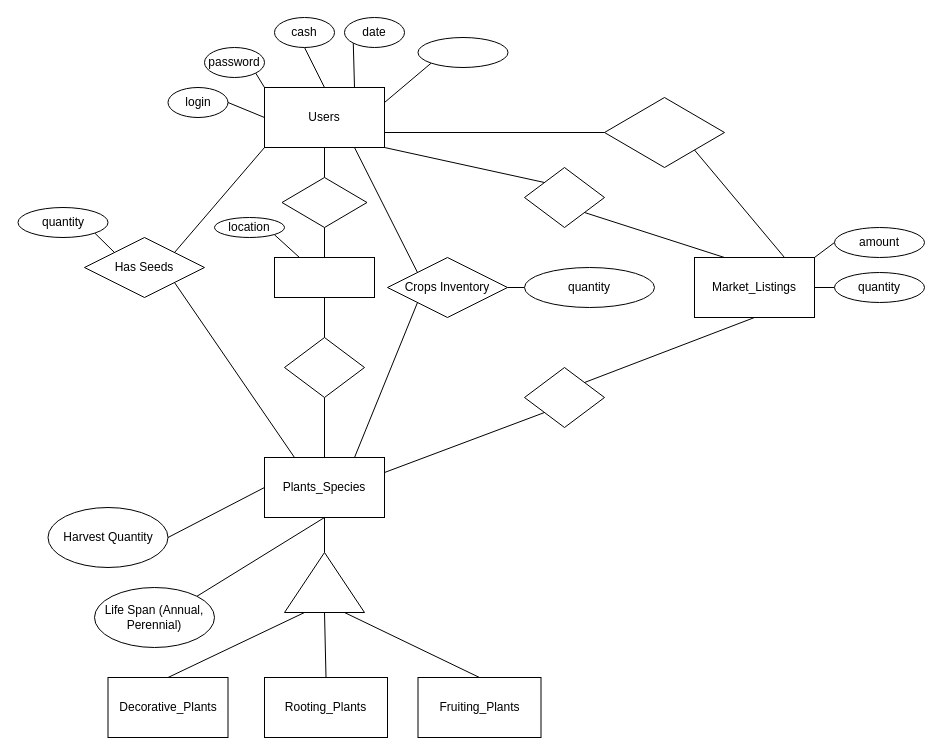
Some shapes in this 942 by 755 pixel diagram are drawn without their labels. The shapes that lost their labels are listed below. From the top down, each one's box as (x1, y1, x2, y2) in pixels, then its label:
(417, 36, 508, 68): garden_size
(604, 96, 724, 168): Buys Crops
(281, 176, 367, 228): Own
(524, 166, 604, 228): Advertises
(274, 256, 374, 298): Grow Boxes
(284, 336, 364, 398): Contain Plants
(524, 366, 604, 428): Contains
